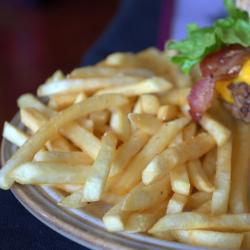fries: (16, 51, 250, 245)
salad: (165, 8, 250, 67)
